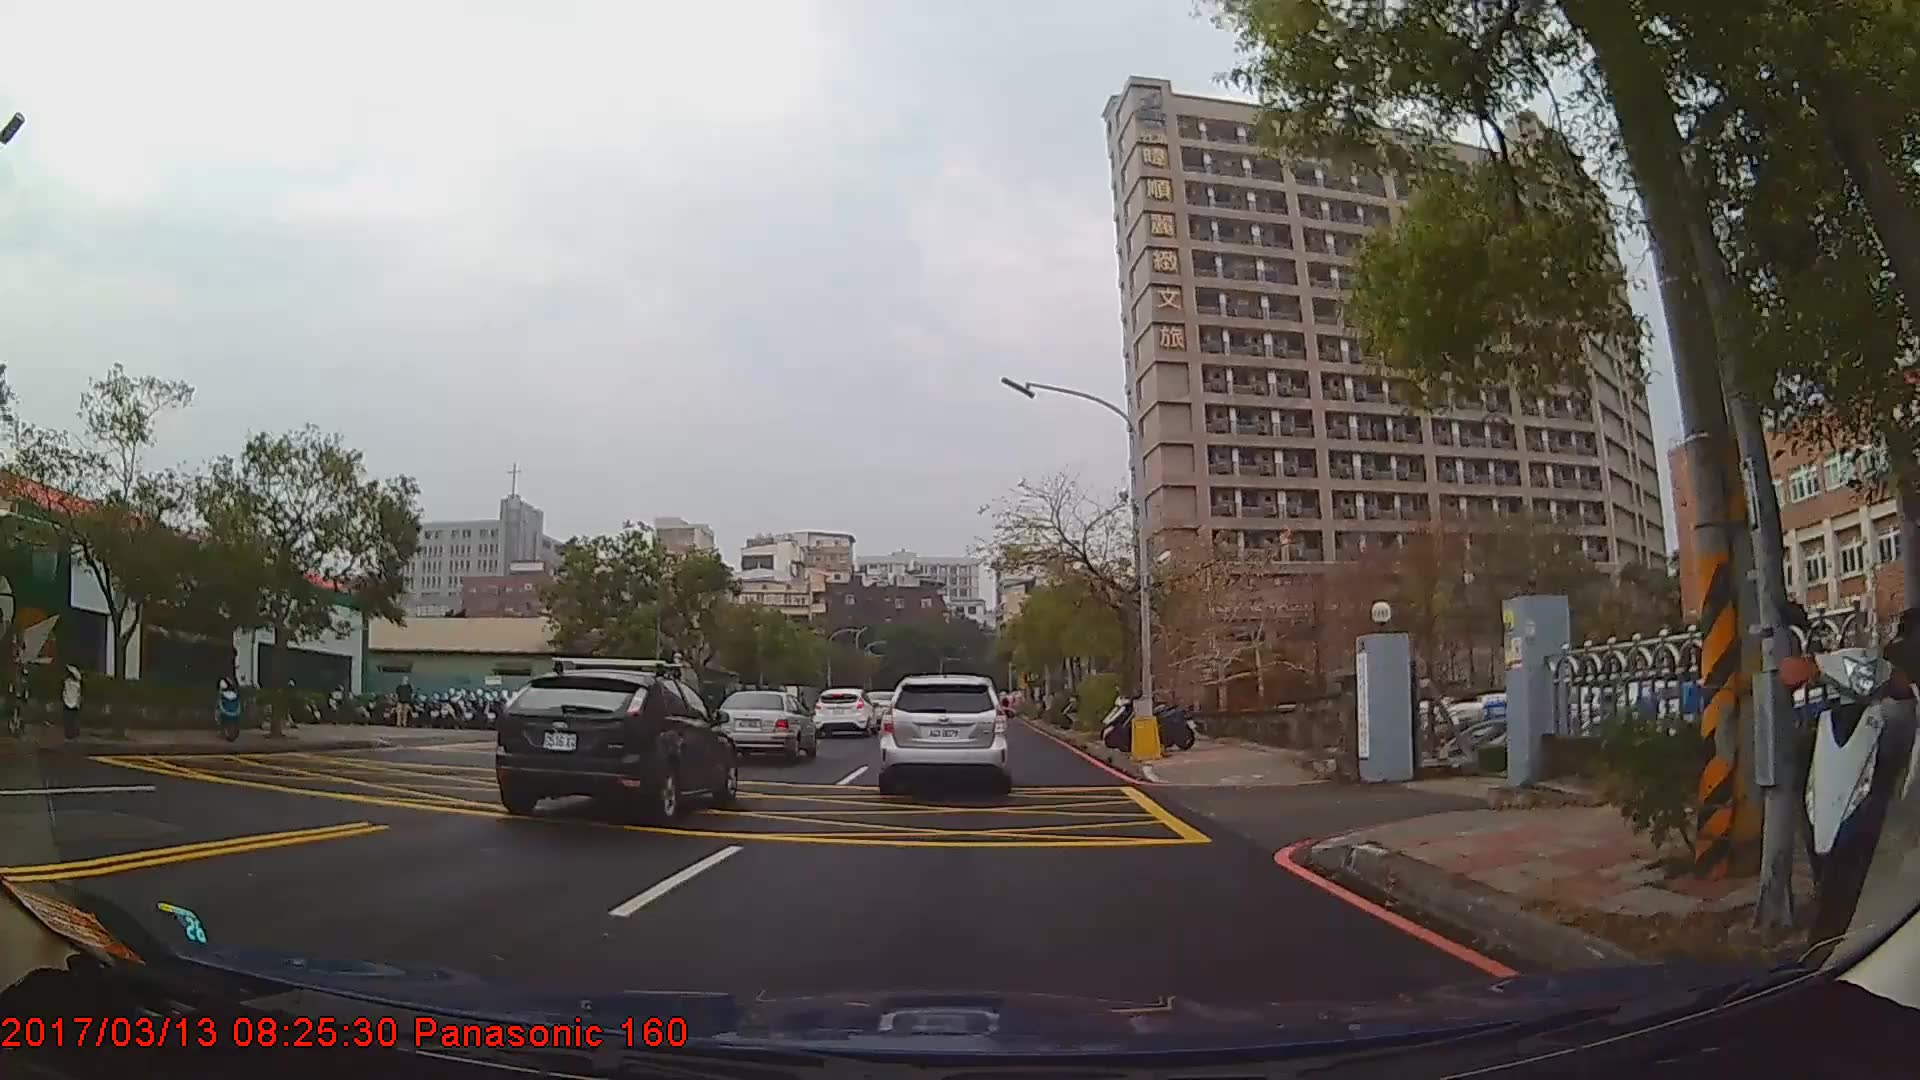pedestrian: (396, 677, 416, 729)
vehicle: (492, 667, 736, 820), (0, 503, 72, 719), (879, 673, 1007, 791), (714, 687, 817, 761), (812, 683, 878, 735)
